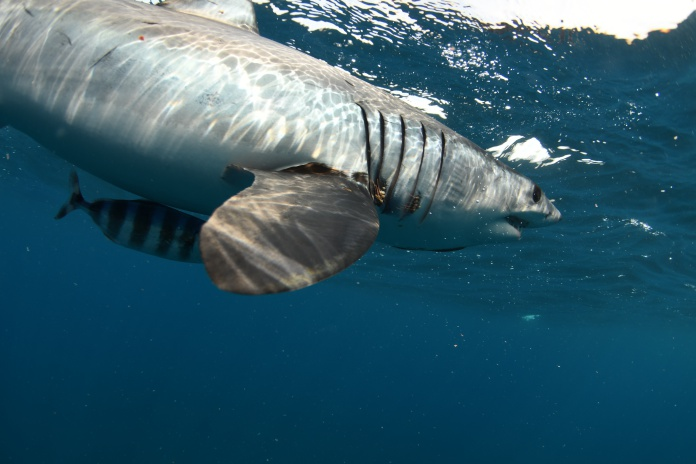Mako: (1, 1, 568, 317)
